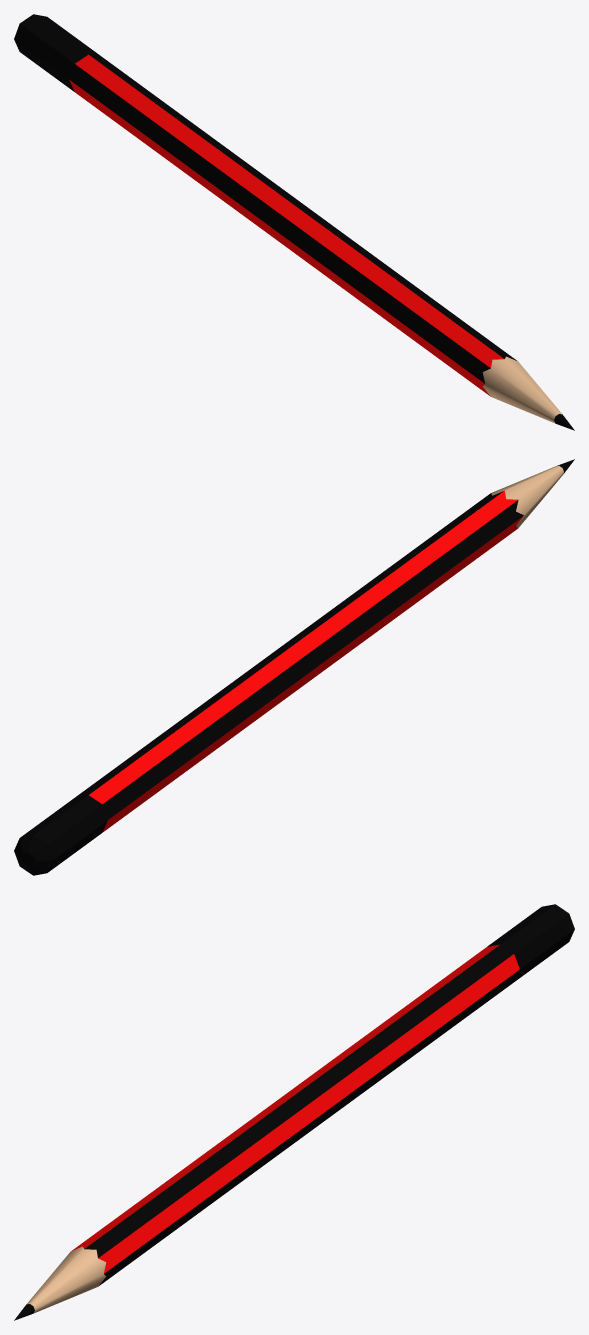
The model's file is SM_Pencil.glb.
3 views of the same model, one above another, from view 1: azimuth 30°, elevation 25°; view 2: azimuth 150°, elevation 25°; view 3: azimuth 330°, elevation 25° (orthographic).
Visible parts, largest first — view 1: SM_Pencil; view 2: SM_Pencil; view 3: SM_Pencil.
Boxes of the visible parts, <box> form: SM_Pencil: <box>14,14,574,430</box>; SM_Pencil: <box>14,459,574,875</box>; SM_Pencil: <box>14,904,574,1320</box>.
Size of the model in its own units: 0.0114 by 0.0112 by 0.2762.
